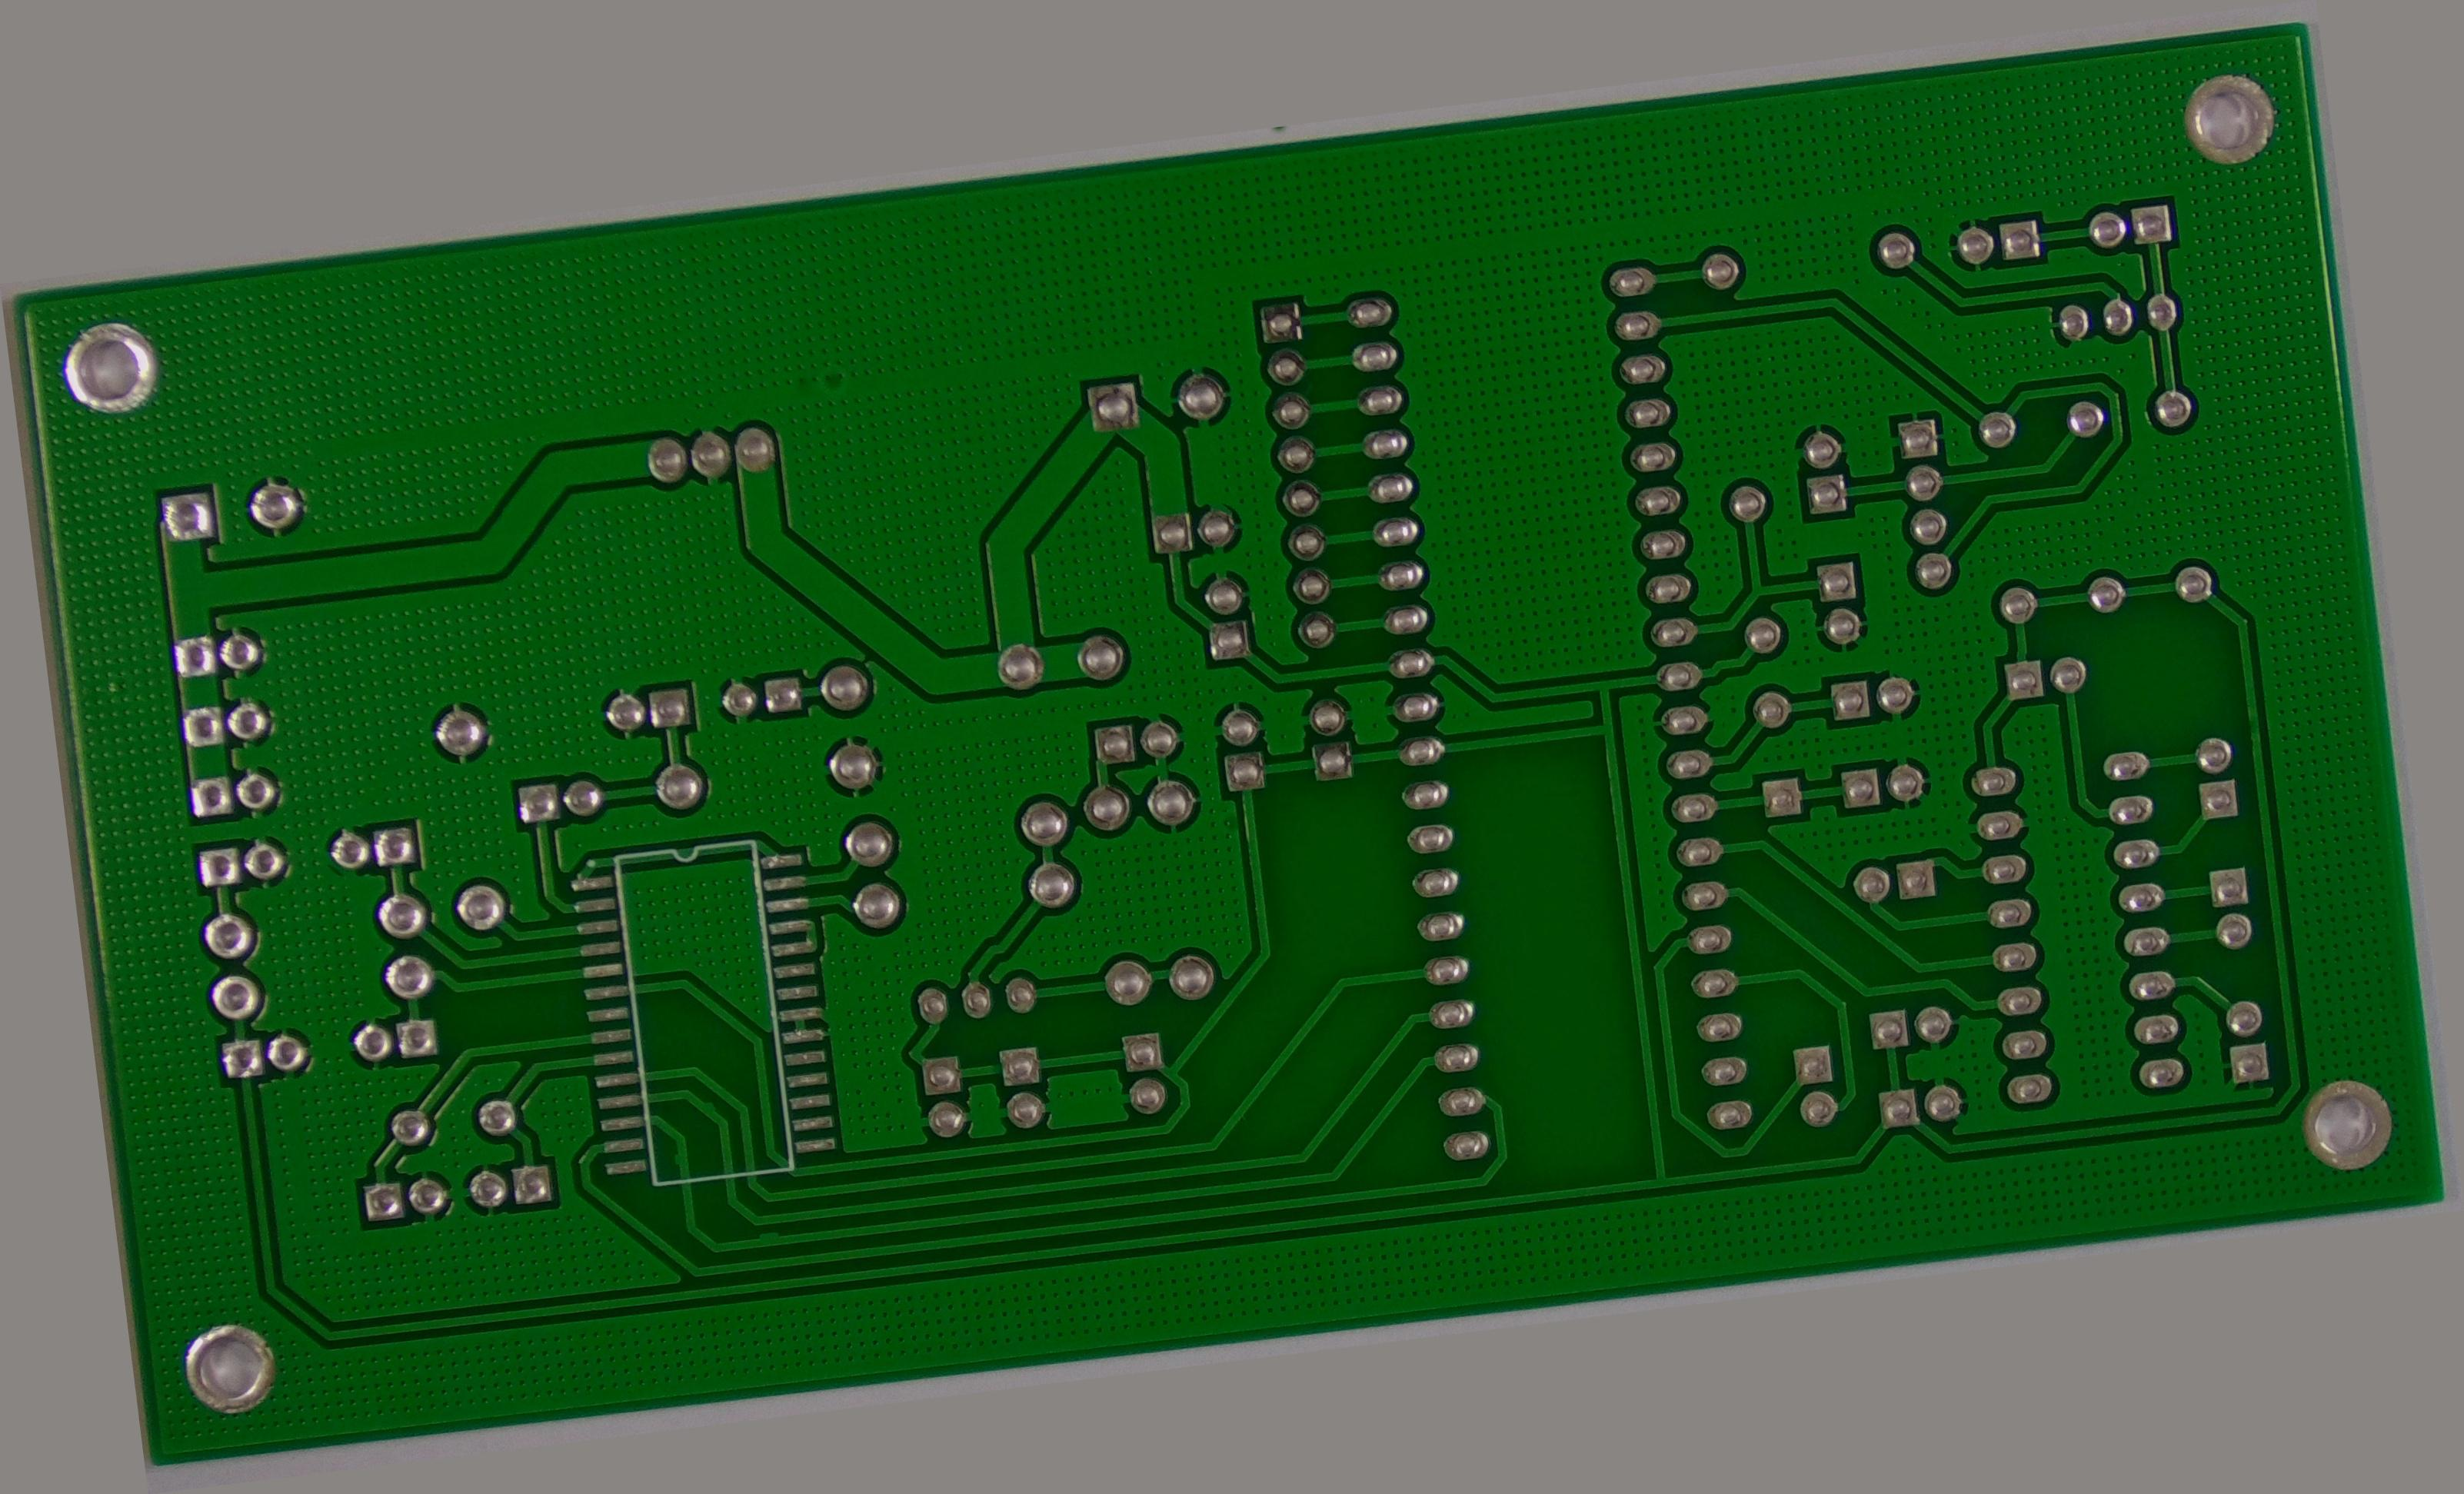spur: (750, 1223, 787, 1256), (692, 1091, 725, 1126), (664, 1146, 695, 1177)
